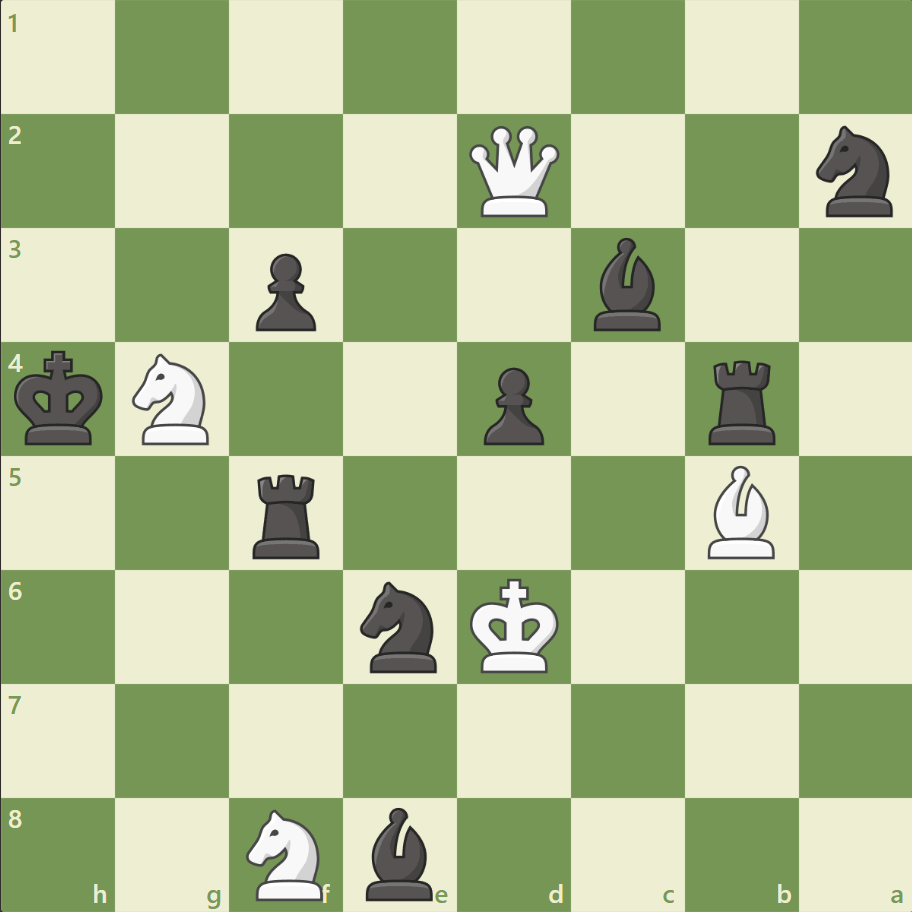B: (698, 460, 782, 563)
K: (465, 571, 565, 679)
N: (124, 348, 222, 450), (238, 802, 335, 904)
Q: (464, 122, 563, 222)
b: (358, 801, 442, 904), (585, 233, 669, 336)
k: (11, 344, 111, 452)
n: (351, 575, 449, 677), (806, 121, 903, 223)
p: (474, 359, 549, 450), (247, 246, 322, 337)
r: (246, 466, 329, 563), (700, 352, 783, 449)
